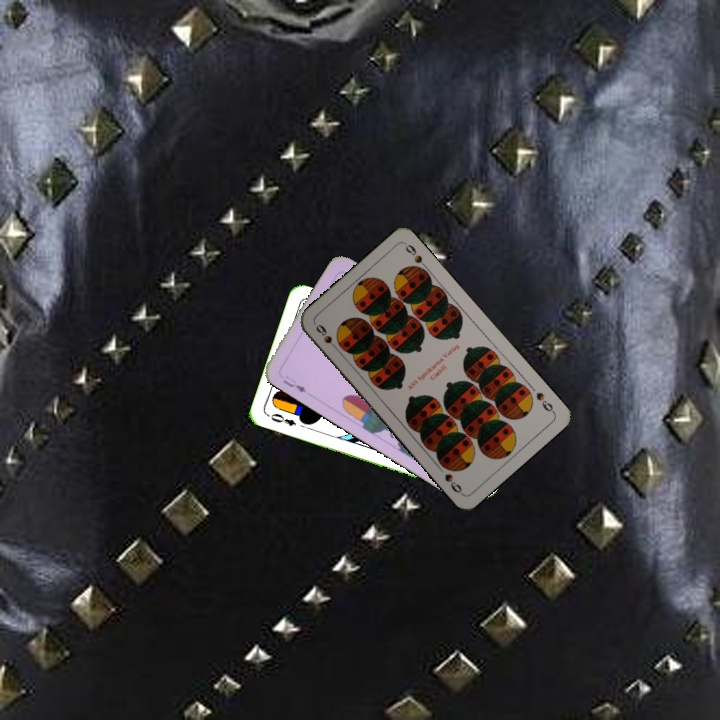EO: (263, 409, 299, 429)
EU: (279, 371, 309, 395)
S9: (311, 320, 342, 354), (532, 388, 557, 416)
